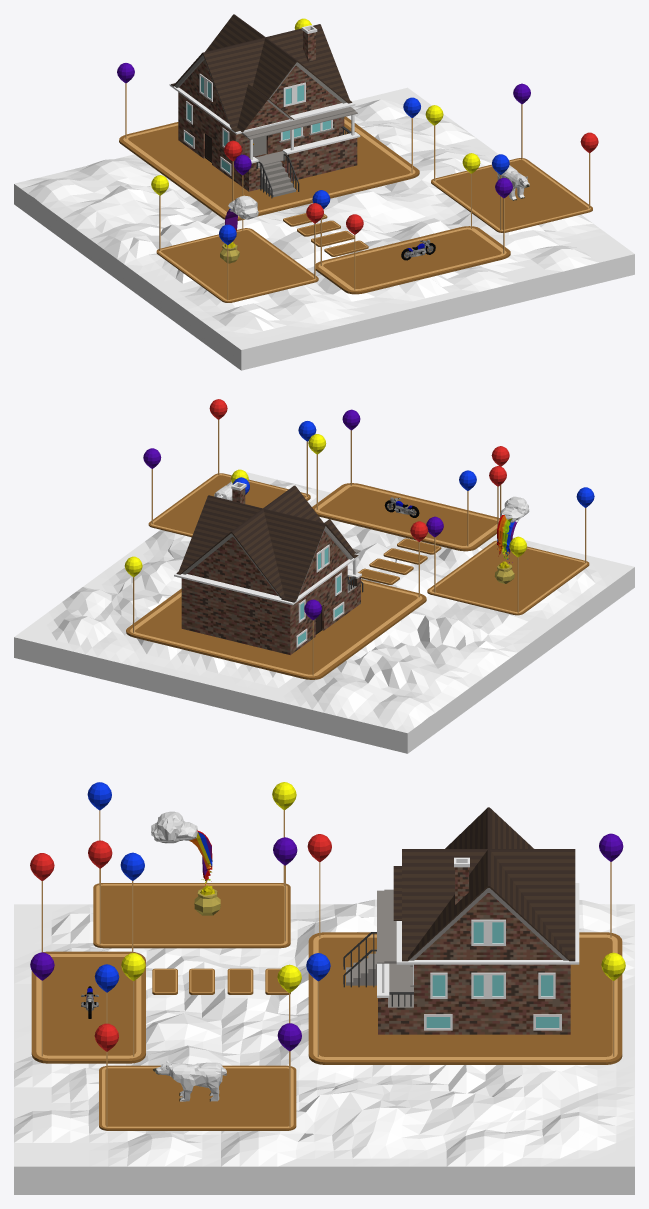
The picture shows the model from 3 angles, top to bottom: view 1: azimuth 30°, elevation 25°; view 2: azimuth 150°, elevation 25°; view 3: azimuth 270°, elevation 25°; orthographic projection. The views are drawn at different scales.
Visible parts, largest first — view 1: Cube.013, Cube.117, OBJRANDOM_RAINBOW, ANIMAL_OSO_POLAR; view 2: Cube.013, Cube.117, OBJRANDOM_RAINBOW; view 3: Cube.013, Cube.117, OBJRANDOM_RAINBOW, ANIMAL_OSO_POLAR.
Part boxes in pixels (x1,y1,x2,y2): Cube.013: [14, 18, 634, 370]; Cube.117: [169, 14, 360, 198]; OBJRANDOM_RAINBOW: [220, 195, 258, 263]; ANIMAL_OSO_POLAR: [497, 165, 529, 200]; Cube.013: [14, 399, 634, 753]; Cube.117: [174, 482, 363, 655]; OBJRANDOM_RAINBOW: [494, 496, 529, 583]; Cube.013: [14, 782, 634, 1194]; Cube.117: [343, 807, 579, 1034]; OBJRANDOM_RAINBOW: [151, 811, 220, 915]; ANIMAL_OSO_POLAR: [153, 1060, 226, 1101].
Size of the model in its own units: 4000 by 1840 by 4000.
Materials: 36 (2 with a texture image).
